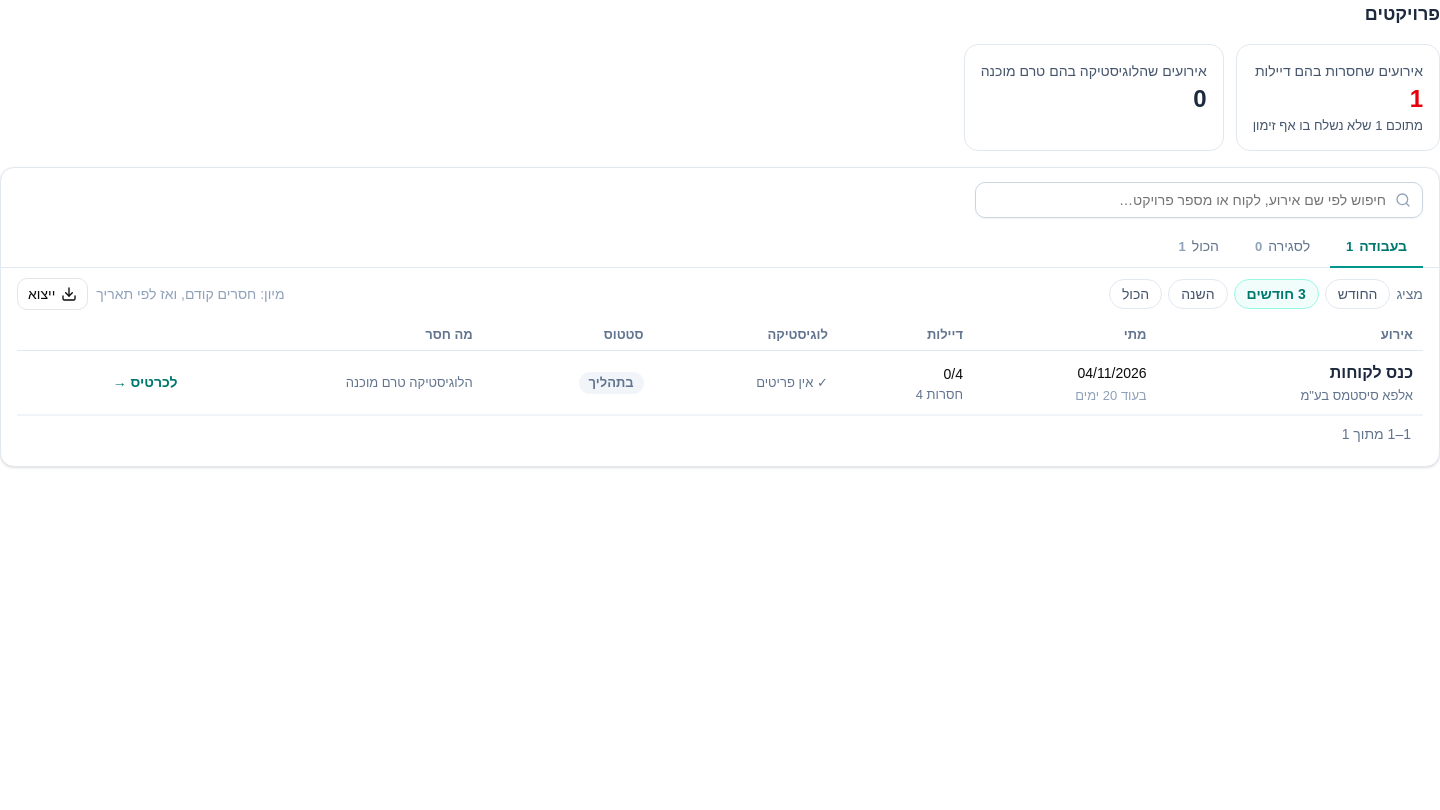
Test: 🔴 ברירת-מחדל = מה שבמסך, ואפשר להוסיף עוד › העמודות הנוספות **זמינות בבוחר** גם כשאינן מסומנות
Click the button with test id "projects-export-button".
click(53, 294)  # box [17,278,88,310]
(page scrolled)
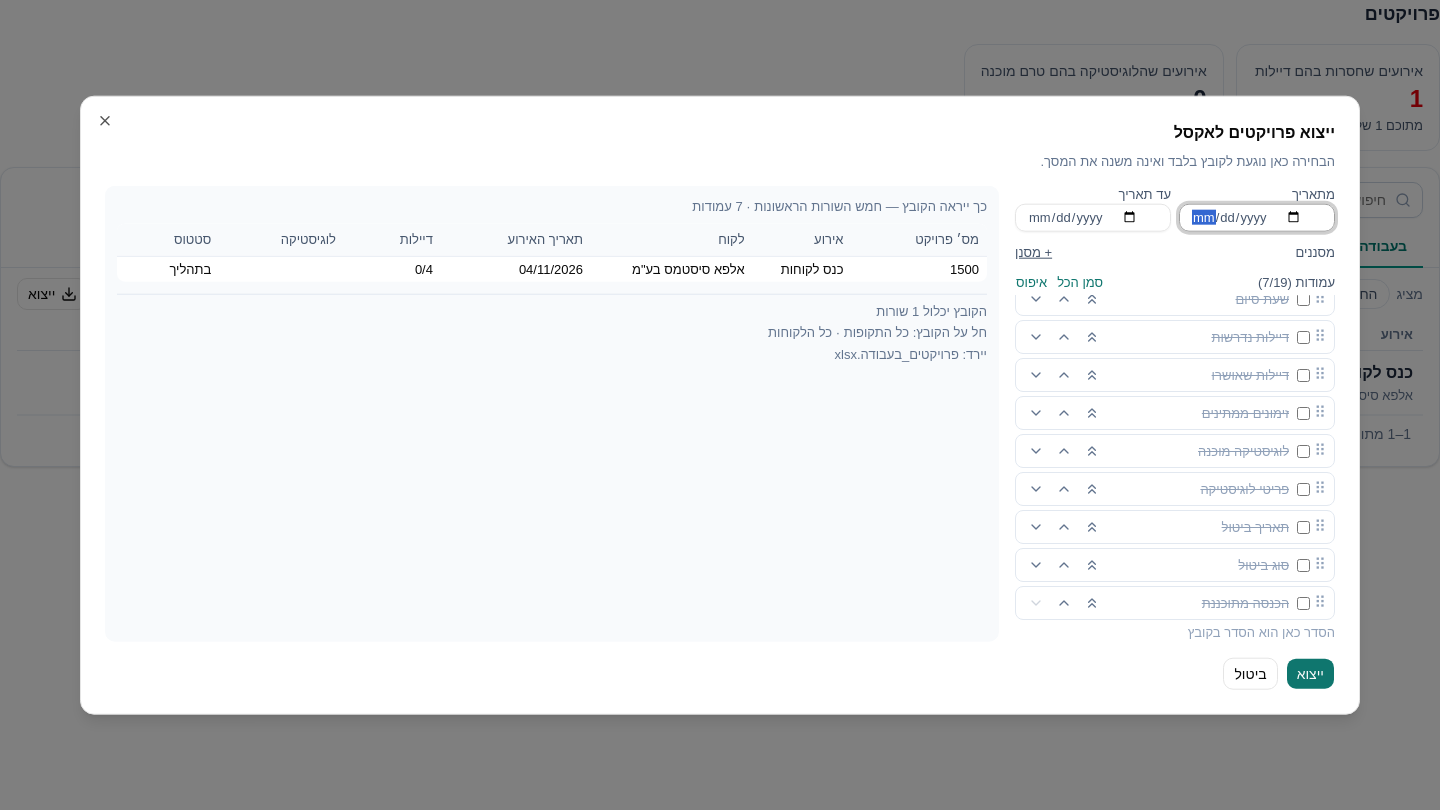
expect the list with test id "export-column-list" is shown: met, box [1015,296,1335,620]
expect the list item with test id "export-column-planned_revenue" is shown: met, box [1015,586,1335,620]
